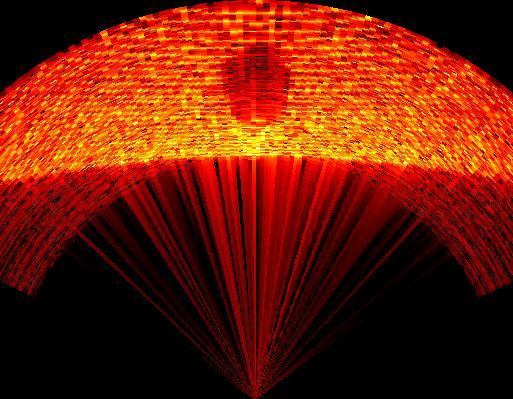box_crate: (221, 38, 298, 146)
